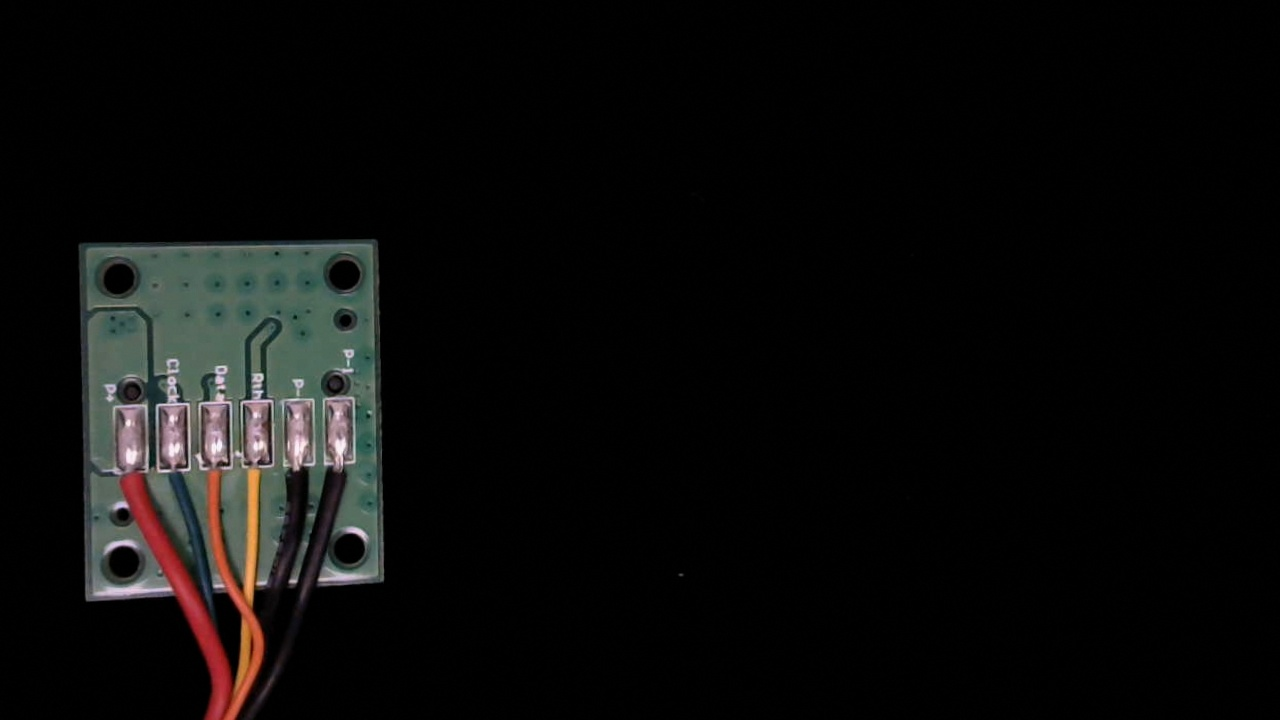Black: (282, 449, 314, 516)
Black1: (322, 448, 356, 518)
Green: (155, 453, 190, 514)
Orange: (197, 452, 229, 516)
Red: (112, 456, 148, 529)
Yellow: (240, 451, 276, 516)
